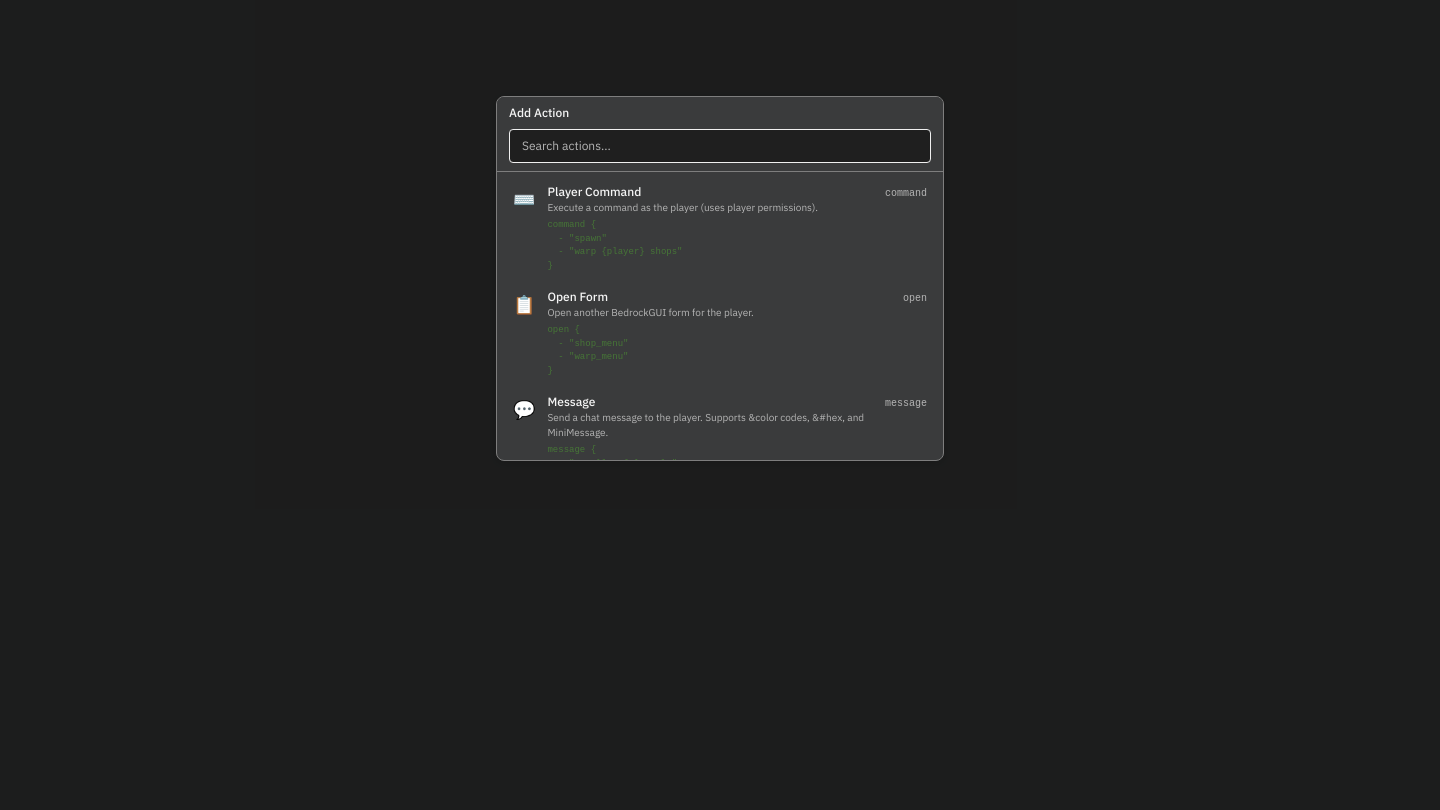
Test: ActionPicker addon sections › reports no match only when neither a core nor an addon action matches
Type "zzz" into the field with placeholder "Search actions..." at (720, 146), box [509,129,931,163]
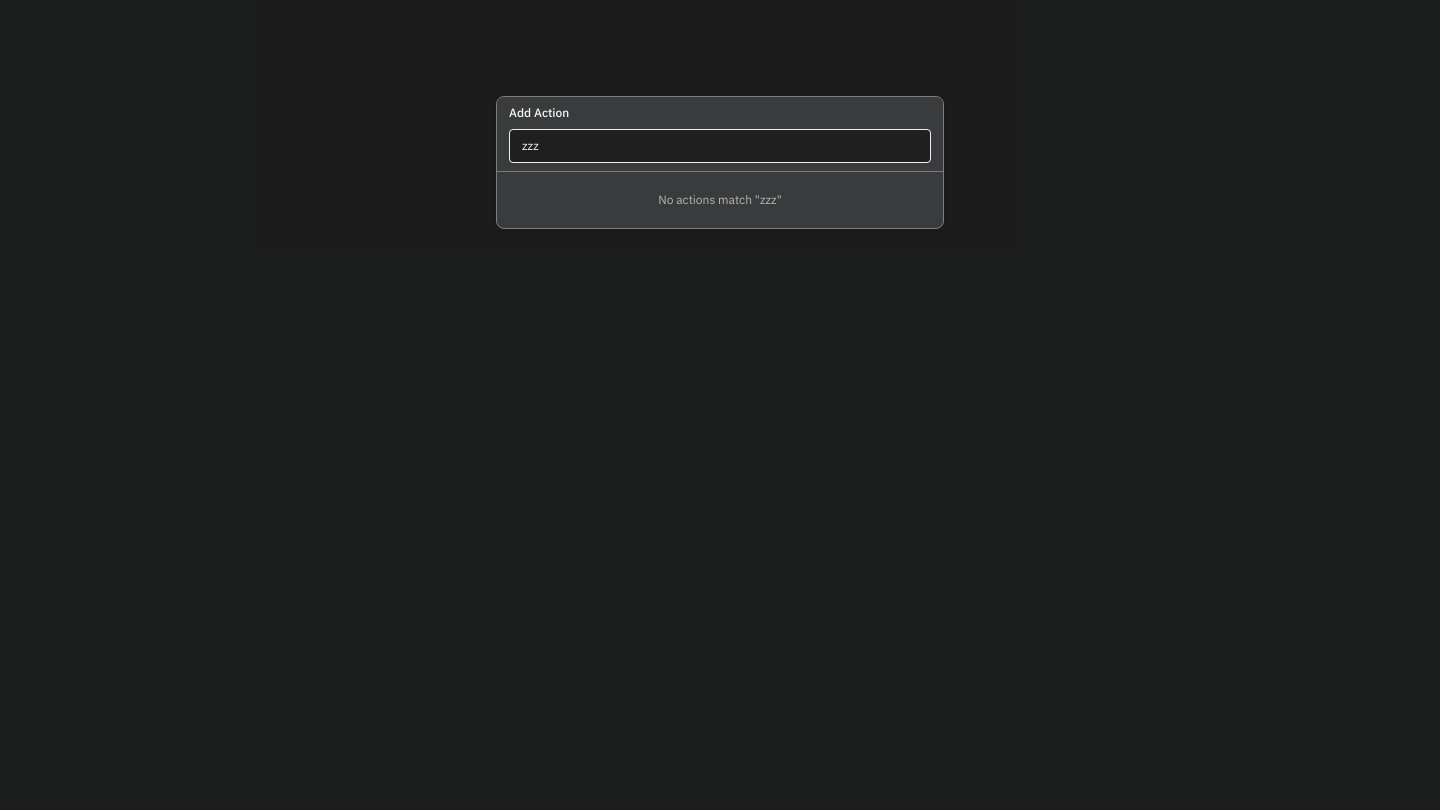
Check: the text "No actions match \"zzz\"" is shown, box [658,192,782,207]
